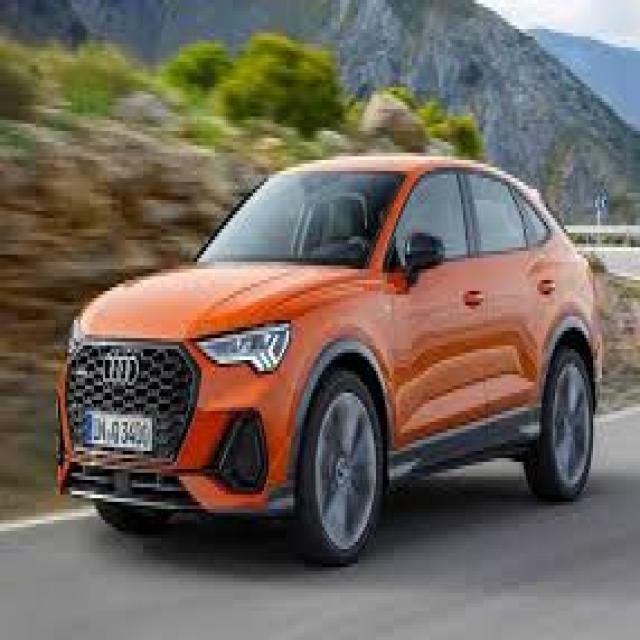SUV: (48, 145, 607, 561)
